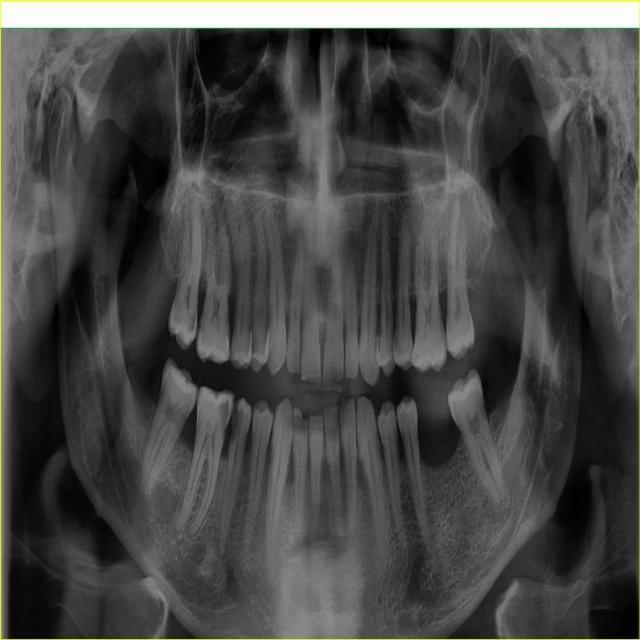Caries: (229, 400, 245, 446), (220, 399, 232, 442), (188, 313, 198, 336), (197, 315, 204, 341)
Missing teeth: (416, 392, 462, 469)
